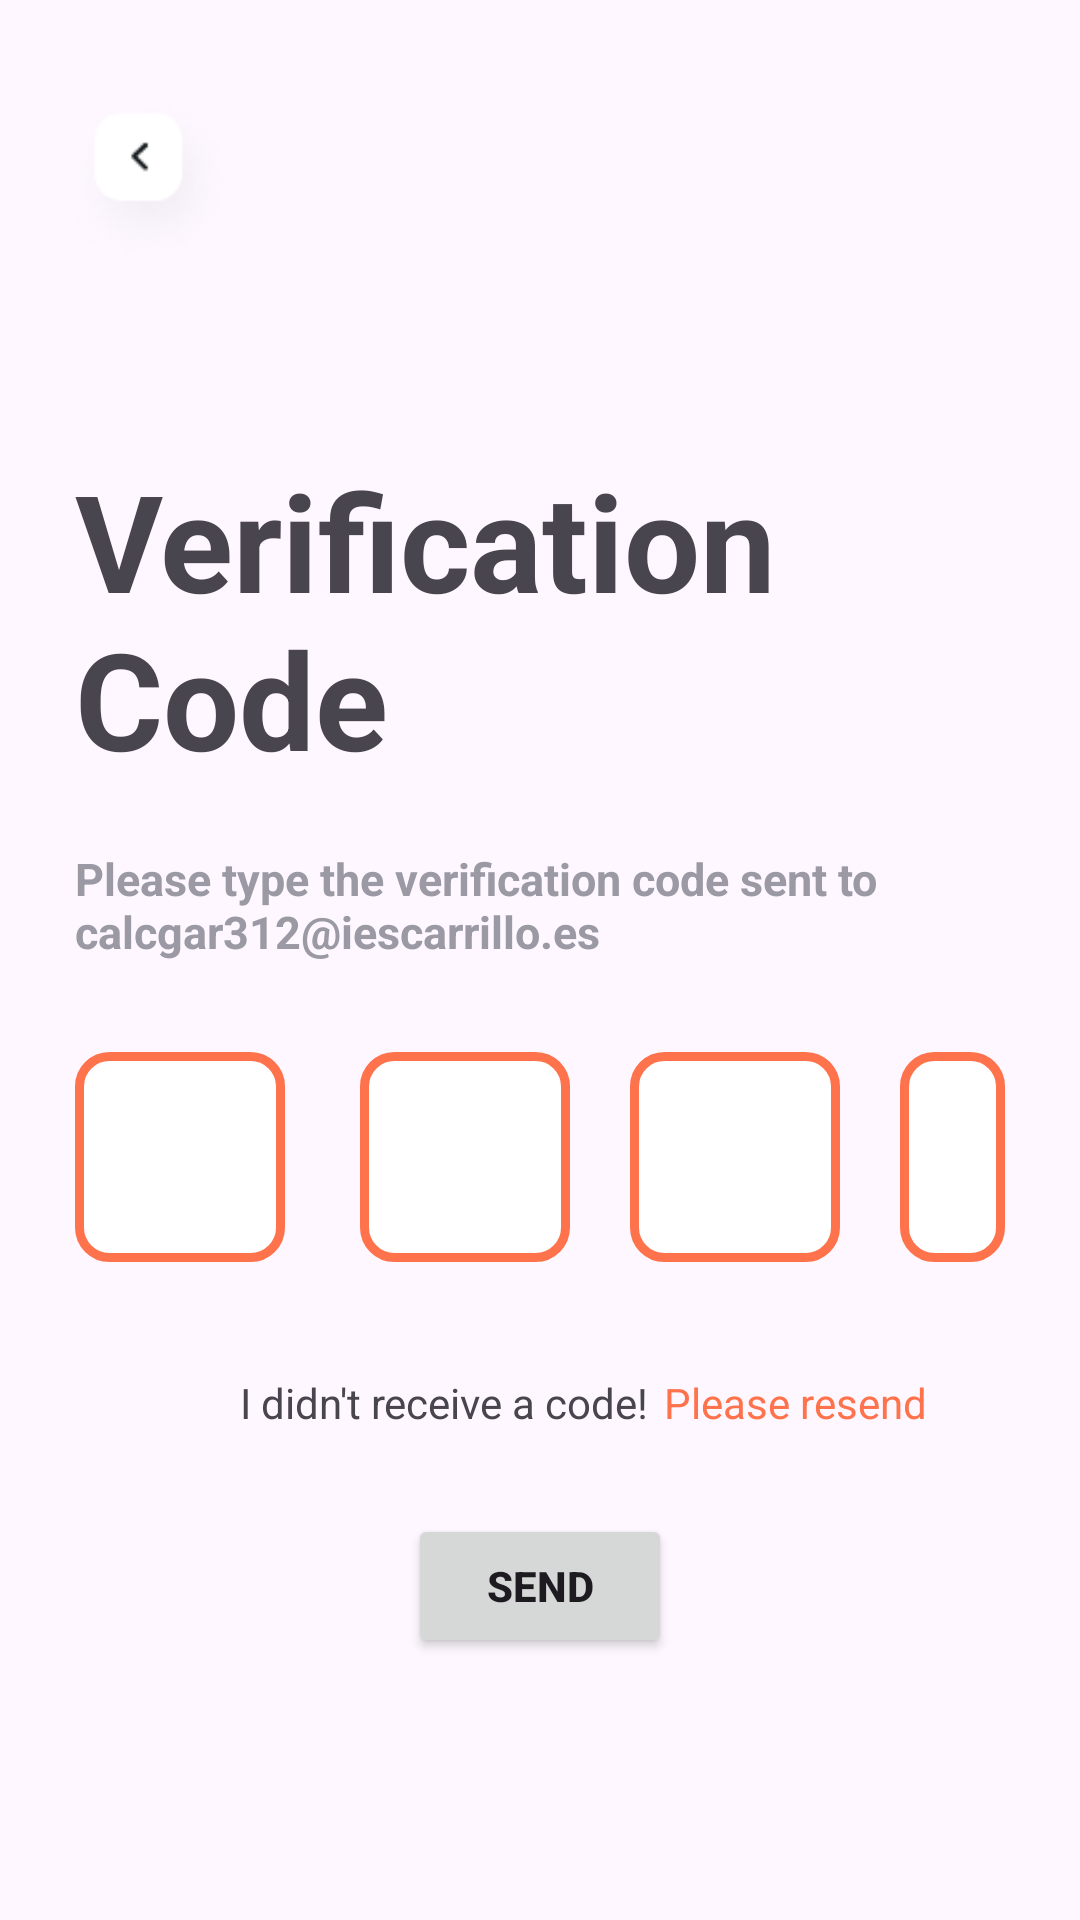

Icon bounding boxes for this 1080w x 1920h phone screenshot, format (x1, y1, x2, y2):
backbtn: (131, 142, 149, 171)
